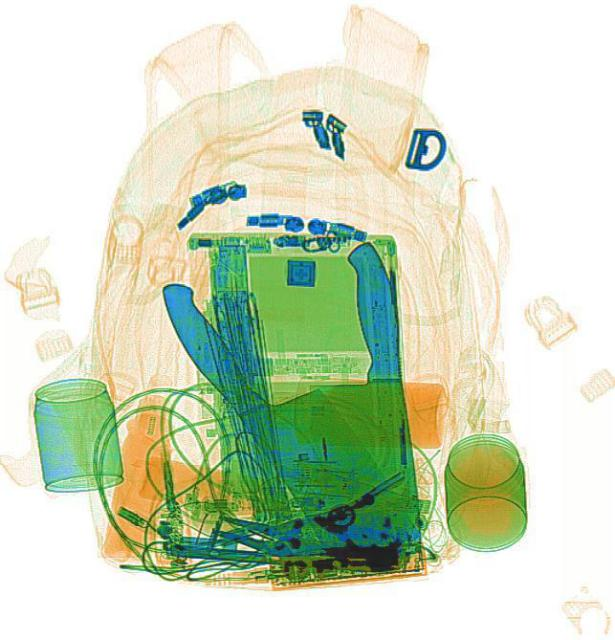Knife: (137, 248, 434, 592), (292, 238, 421, 576)
